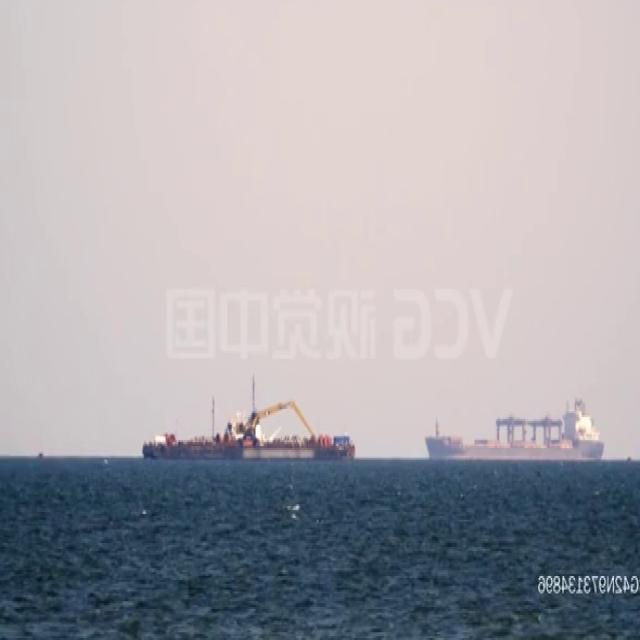cargoship: (137, 379, 358, 464), (421, 400, 606, 466)
